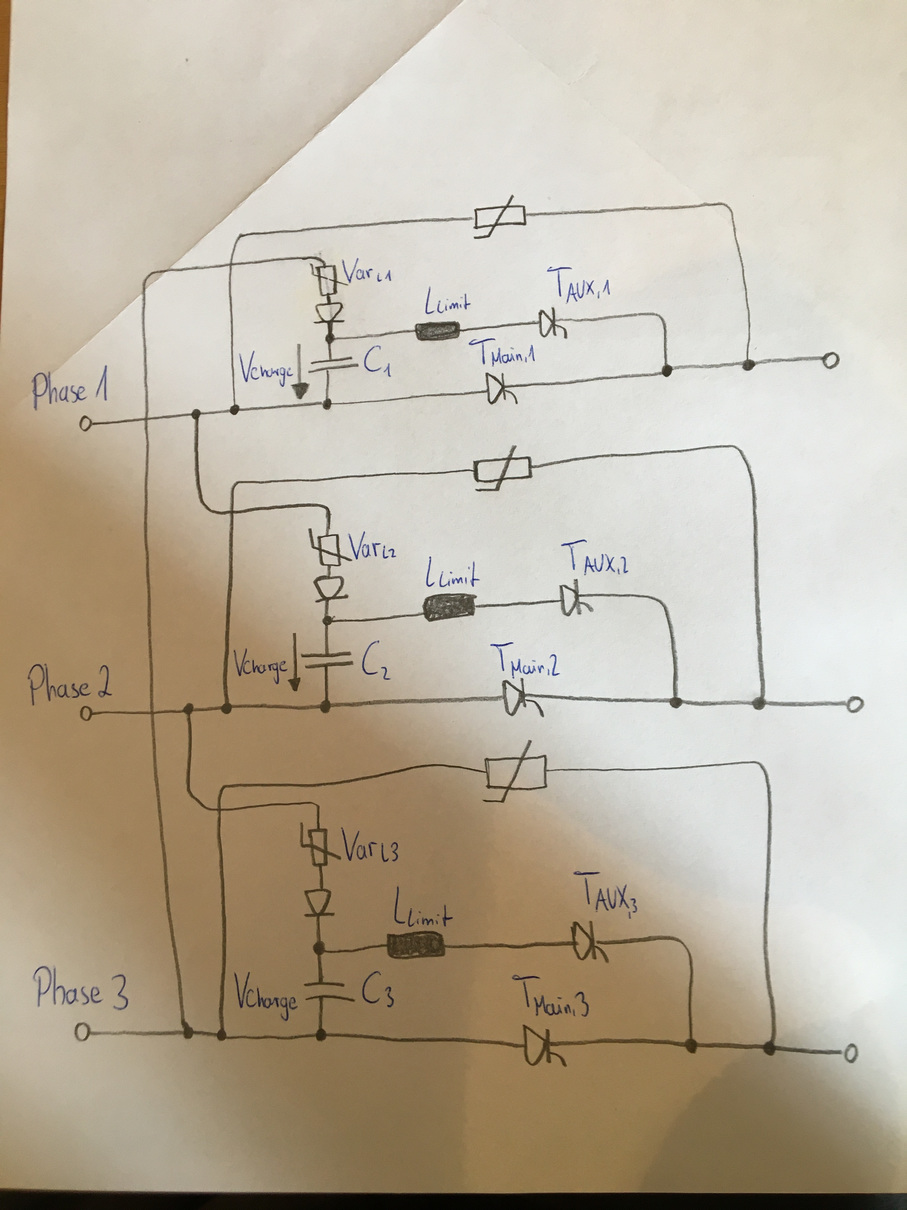capacitor.unpolarized: (302, 979, 357, 1004), (301, 649, 356, 671), (308, 354, 361, 374)
crossover: (144, 705, 160, 719), (226, 506, 239, 519), (214, 804, 225, 815), (141, 414, 153, 424), (226, 260, 236, 270)
diode: (311, 573, 350, 606), (302, 886, 337, 920), (312, 301, 347, 327)
inductor: (385, 929, 448, 961), (421, 592, 480, 623), (413, 320, 462, 343)
junction: (672, 934, 695, 959), (232, 230, 254, 252), (731, 443, 752, 466), (185, 790, 208, 810), (196, 494, 217, 515), (649, 593, 669, 612), (753, 758, 771, 779), (178, 1019, 195, 1040), (311, 939, 329, 957), (761, 1040, 780, 1057), (216, 781, 234, 798), (682, 1037, 699, 1055), (751, 695, 769, 711), (716, 199, 734, 215), (740, 357, 757, 372), (653, 311, 668, 328), (141, 270, 158, 285), (318, 697, 332, 715), (180, 701, 196, 716), (314, 1027, 329, 1043), (668, 695, 684, 710), (215, 1026, 229, 1043), (660, 362, 674, 379), (219, 701, 234, 716), (321, 614, 337, 626), (229, 479, 242, 493), (324, 331, 337, 345), (313, 253, 331, 263), (228, 404, 241, 417), (190, 408, 203, 421), (321, 397, 333, 411), (317, 501, 330, 512), (307, 799, 321, 809)
terminal: (838, 1041, 861, 1065), (73, 1020, 95, 1043), (844, 694, 866, 715), (819, 350, 841, 370), (78, 704, 98, 722), (78, 414, 95, 433)
text: (32, 963, 130, 1011), (24, 660, 115, 708), (29, 363, 112, 412), (510, 973, 591, 1020), (232, 969, 300, 1022), (571, 869, 639, 920), (489, 640, 561, 680), (560, 537, 631, 576), (392, 884, 454, 928), (545, 265, 612, 305), (339, 825, 401, 863), (467, 336, 537, 368), (232, 646, 289, 685), (238, 349, 294, 388), (424, 554, 481, 590), (345, 530, 397, 561), (423, 285, 472, 316), (341, 257, 394, 285), (359, 639, 393, 682), (360, 969, 396, 1009), (363, 344, 394, 378)
thyristor: (522, 1023, 568, 1066), (500, 677, 544, 717), (571, 920, 609, 960), (558, 578, 594, 617), (484, 371, 518, 404), (538, 306, 568, 337)
varistor: (480, 738, 549, 805), (471, 444, 536, 493), (471, 193, 528, 241), (298, 820, 343, 868), (307, 526, 354, 568), (308, 262, 349, 298)
